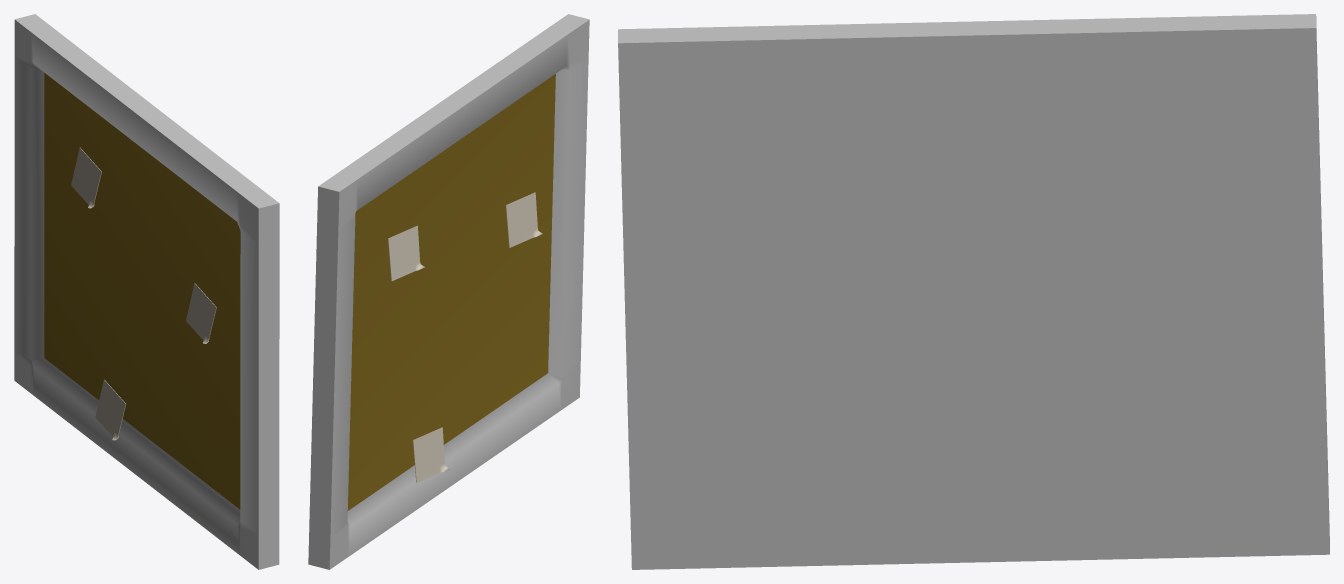
The model's file is wall_board 1.fbx.
3 views of the same model, side by side, from view 1: azimuth 30°, elevation 25°; view 2: azimuth 150°, elevation 25°; view 3: azimuth 270°, elevation 25° (orthographic). The views are drawn at different scales.
Parts seen in each view (by area): view 1: sketchfab_render:pCube22; view 2: sketchfab_render:pCube22; view 3: sketchfab_render:pCube22.
Part boxes in pixels (x1,y1,x2,y2): sketchfab_render:pCube22: [14, 14, 279, 569]; sketchfab_render:pCube22: [308, 14, 589, 569]; sketchfab_render:pCube22: [618, 14, 1329, 569].
Size of the model in its own units: 75.33 by 891 by 1066.
